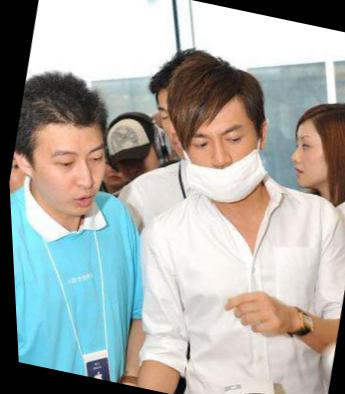NONE: (30, 131, 113, 223), (283, 133, 344, 197)
WRONG: (163, 99, 279, 210)
